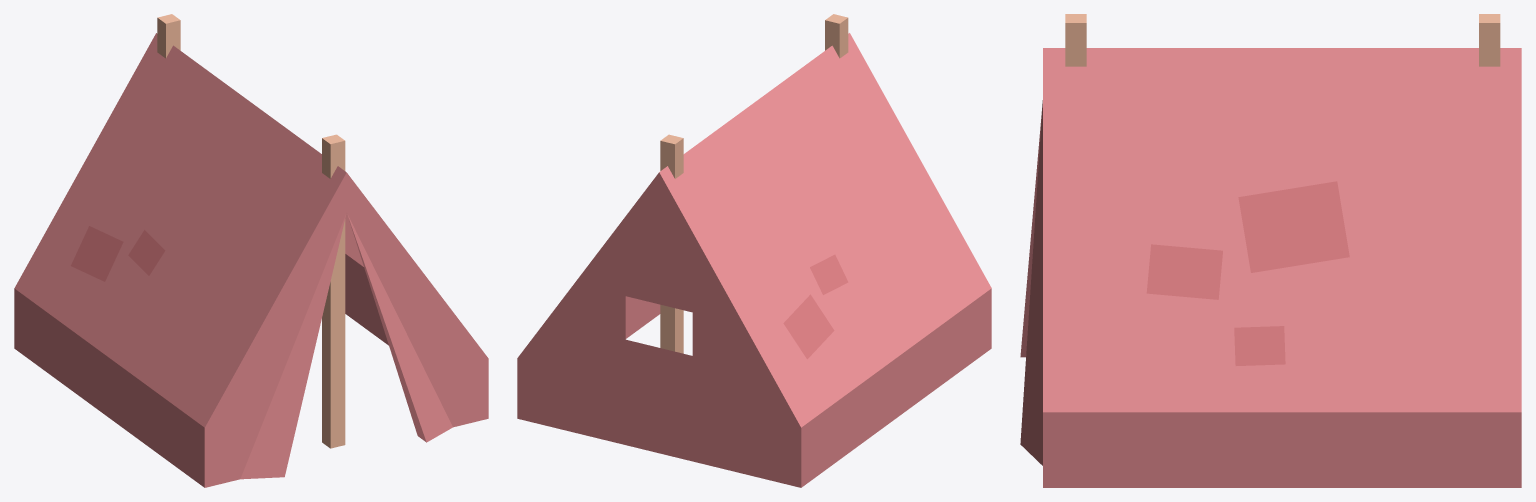
Rendered from tent_smallOpen.gltf.
The picture shows the model from 3 angles, left to right: view 1: azimuth 30°, elevation 25°; view 2: azimuth 150°, elevation 25°; view 3: azimuth 270°, elevation 25°; orthographic projection. The views are drawn at different scales.
Parts seen in each view (by area): view 1: tent_smallOpen; view 2: tent_smallOpen; view 3: tent_smallOpen.
Boxes of the visible parts, x1,y1,x2,y2 form: tent_smallOpen: (14,14,488,487); tent_smallOpen: (517,14,991,487); tent_smallOpen: (1020,14,1521,487).
Bounding box in the file's own units: 0.5476 × 0.5611 × 0.6664.
